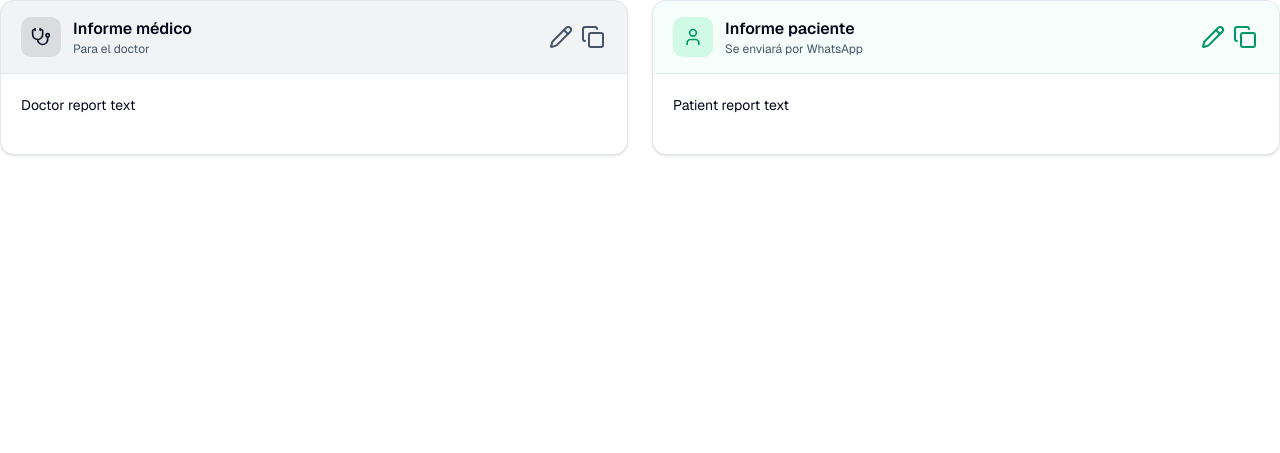
Test: InformeEditor › enters edit mode when doctor edit button is clicked
The image size is (1280, 453).
Click the button named "Editar informe" in the row of "Informe médico" at (561, 37), box 547,23 -> 575,51
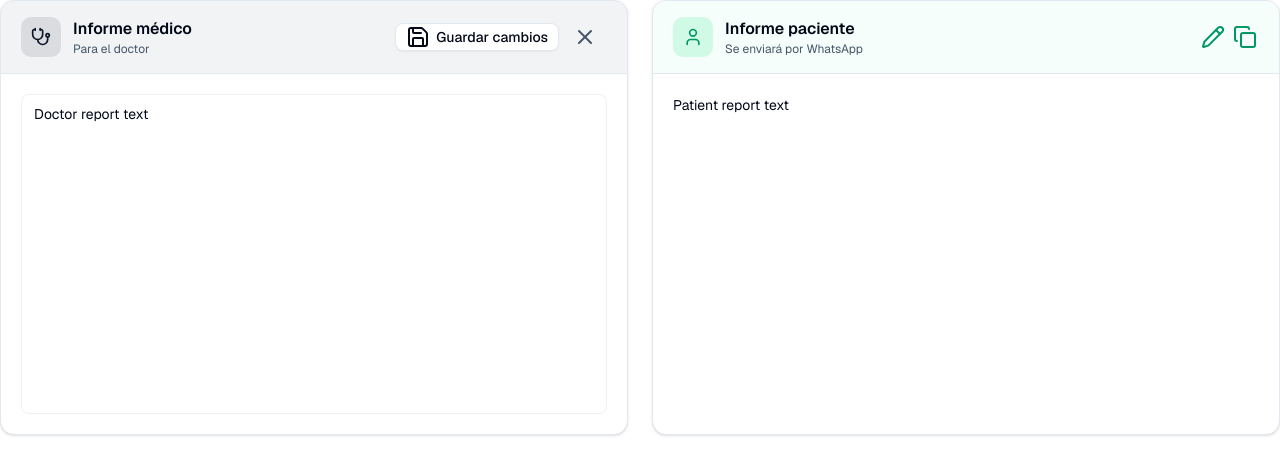
Expected: the button "Guardar cambios" is shown, 395,23 -> 559,51
